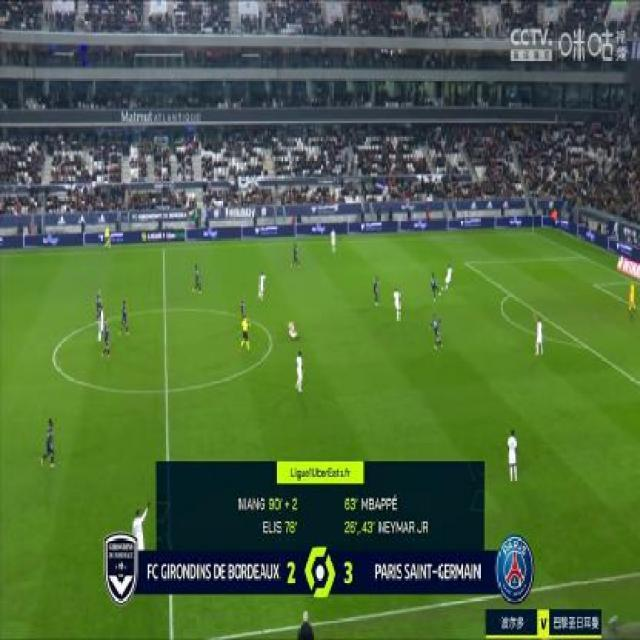goalkeeper: (623, 276, 640, 319)
player: (505, 426, 522, 487), (129, 500, 150, 549), (40, 417, 59, 466), (530, 311, 548, 359), (293, 346, 307, 399), (282, 316, 306, 343), (431, 311, 445, 354), (100, 320, 115, 360), (390, 285, 405, 324), (426, 266, 442, 302), (189, 260, 205, 296), (119, 298, 135, 334), (440, 259, 456, 293), (288, 236, 304, 269), (95, 302, 106, 345), (255, 265, 267, 303), (328, 227, 342, 258), (371, 270, 381, 310), (90, 285, 105, 311), (237, 299, 248, 315)
referee: (240, 314, 253, 354)
